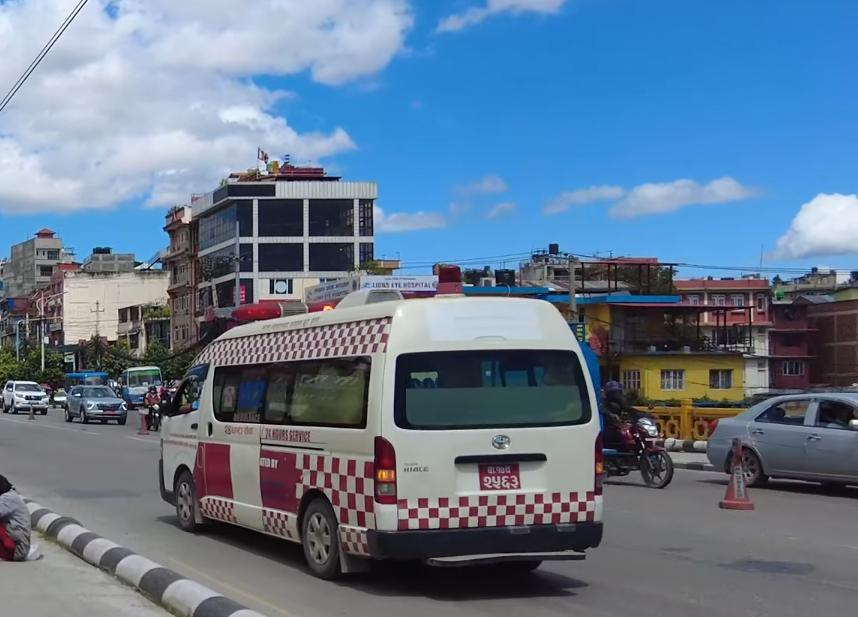ambulance: (145, 276, 619, 583)
bike: (602, 410, 677, 491)
bus: (119, 361, 162, 405)
car: (701, 385, 858, 493), (62, 383, 128, 425), (0, 377, 49, 416)
